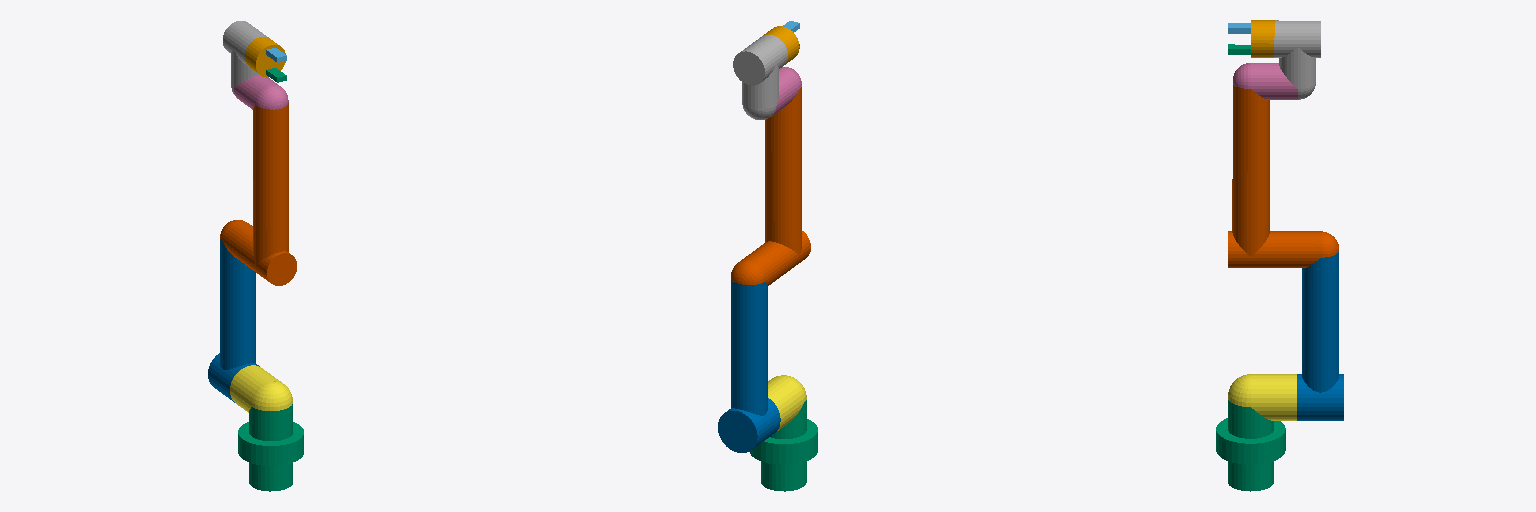
robot.urdf — cobot:
<?xml version="1.0" ?>
<!-- =================================================================================== -->
<!-- |    This document was autogenerated by xacro from src/cobot/urdf/cobot.xacro     | -->
<!-- |    EDITING THIS FILE BY HAND IS NOT RECOMMENDED                                 | -->
<!-- =================================================================================== -->
<robot name="cobot">
   
  <!-- ................................ BASE LINK .................................. -->
  <link name="base_link"/>

  <link name="base_footprint"/>

  <joint name="base_joint" type="fixed">
    <parent link="base_link"/>
    <child link="base_footprint"/>
    <origin rpy="0 0 0" xyz="0.0 0.0 -0.26"/>
  </joint>

  <link name="arm_base">
    <collision>
      <origin rpy="0 0 0" xyz="0 0 0"/>
      <geometry>
        <cylinder length="0.15" radius="0.15"/>
      </geometry>
    </collision>
    <visual>
      <origin rpy="0 0 0" xyz="0 0 0"/>
      <geometry>
        <cylinder length="0.1" radius="0.15"/>
      </geometry>
    </visual>
    <visual>
      <origin rpy="0 0 0" xyz="0 0 0"/>
      <geometry>
        <cylinder length="0.4" radius="0.1"/>
      </geometry>
    </visual>
    <inertial>
      <origin rpy="0 0 0" xyz="0 0 0"/>
      <mass value="5.0"/>
      <inertia ixx="0.000170625" ixy="0" ixz="0" iyy="0.000170625" iyz="0" izz="0.00028125"/>
    </inertial>
  </link>
  <joint name="arm_base_joint" type="fixed">
    <parent link="base_link"/>
    <child link="arm_base"/>
    <origin rpy="0 0 0" xyz="0.1 0 0.2"/>
  </joint>
  
  <link name="arm_link1">
    <collision>
      <origin rpy="0 0 0" xyz="0 0 0"/>
      <geometry>
        <cylinder length="0.15" radius="0.15"/>
      </geometry>
    </collision>
    <visual>
      <origin rpy="0 0 0" xyz="0 0 0"/>
      <geometry>
        <sphere radius="0.1"/>
      </geometry>
    </visual>
    <visual>
      <origin rpy="1.57 0 0" xyz="0 0.1 0"/>
      <geometry>
        <cylinder length="0.2" radius="0.1"/>
      </geometry>
    </visual>
    <inertial>
      <origin rpy="0 0 0" xyz="0 0 0"/>
      <mass value="2.0"/>
      <inertia ixx="0.000170625" ixy="0" ixz="0" iyy="0.000170625" iyz="0" izz="0.00028125"/>
    </inertial>
  </link>
  <joint name="arm_joint1" type="revolute">
    <parent link="arm_base"/>
    <child link="arm_link1"/>
    <origin rpy="0 0 0" xyz="0.0 0 0.2"/>
    <axis xyz="0 0 1"/>
    <limit effort="411" lower="-3.14" upper="3.14" velocity="1.57"/>
    <dynamics damping="60.0" friction="4.0"/>
  </joint>
  
  <link name="arm_link2">
    <collision>
      <origin rpy="0 0 0" xyz="0 0 0"/>
      <geometry>
        <cylinder length="0.15" radius="0.15"/>
      </geometry>
    </collision>
    <visual>
      <origin rpy="0 0 0" xyz="0 0 0"/>
      <geometry>
        <cylinder length="0.2" radius="0.1"/>
      </geometry>
    </visual>
    <visual>
      <origin rpy="1.57 0 0" xyz="0 0.35 0"/>
      <geometry>
        <cylinder length="0.7" radius="0.08"/>
      </geometry>
    </visual>
    <inertial>
      <origin rpy="0 0 0" xyz="0 0 0"/>
      <mass value="1.0"/>
      <inertia ixx="0.000170625" ixy="0" ixz="0" iyy="0.000170625" iyz="0" izz="0.00028125"/>
    </inertial>
  </link>
  <joint name="arm_joint2" type="revolute">
    <parent link="arm_link1"/>
    <child link="arm_link2"/>
    <origin rpy="1.57 0 0" xyz="0.0 0.3 0.0"/>
    <axis xyz="0 0 1"/>
    <limit effort="411" lower="-1.5" upper="1.5" velocity="1.57"/>
    <dynamics damping="60.0" friction="4.0"/>
  </joint>
  
  <link name="arm_link3">
    <collision>
      <origin rpy="0 0 0" xyz="0 0 0"/>
      <geometry>
        <cylinder length="0.15" radius="0.15"/>
      </geometry>
    </collision>
    <visual>
      <origin rpy="0 0 0" xyz="0 0 0"/>
      <geometry>
        <sphere radius="0.08"/>
      </geometry>
    </visual>
    <visual>
      <origin rpy="0 0 0" xyz="0.0 0 0.2"/>
      <geometry>
        <cylinder length="0.4" radius="0.08"/>
      </geometry>
    </visual>
    <visual>
      <origin rpy="1.57 0 0" xyz="0.0 0.4 0.3"/>
      <geometry>
        <cylinder length="0.8" radius="0.08"/>
      </geometry>
    </visual>
    <inertial>
      <origin rpy="0 0 0" xyz="0 0 0"/>
      <mass value="1.0"/>
      <inertia ixx="0.000170625" ixy="0" ixz="0" iyy="0.000170625" iyz="0" izz="0.00028125"/>
    </inertial>
  </link>
  <joint name="arm_joint3" type="revolute">
    <parent link="arm_link2"/>
    <child link="arm_link3"/>
    <origin rpy="0 0 0" xyz="0.0 0.7 0"/>
    <axis xyz="0 0 1"/>
    <limit effort="411" lower="-2.4" upper="2.4" velocity="1.57"/>
    <dynamics damping="60.0" friction="4.0"/>
  </joint>
  
  <link name="arm_link4">
    <collision>
      <origin rpy="0 0 0" xyz="0 0 0"/>
      <geometry>
        <cylinder length="0.15" radius="0.15"/>
      </geometry>
    </collision>
    <visual>
      <origin rpy="0 0 0" xyz="0 0 0"/>
      <geometry>
        <sphere radius="0.08"/>
      </geometry>
    </visual>
    <visual>
      <origin rpy="0 0 0" xyz="0.0 0 -0.1"/>
      <geometry>
        <cylinder length="0.2" radius="0.08"/>
      </geometry>
    </visual>
    <inertial>
      <origin rpy="0 0 0" xyz="0 0 0"/>
      <mass value="0.5"/>
      <inertia ixx="0.000170625" ixy="0" ixz="0" iyy="0.000170625" iyz="0" izz="0.00028125"/>
    </inertial>
  </link>
  <joint name="arm_joint4" type="revolute">
    <parent link="arm_link3"/>
    <child link="arm_link4"/>
    <origin rpy="0 0 0" xyz="0.0 0.8 0.3"/>
    <axis xyz="0 0 1"/>
    <limit effort="411" lower="-3.14" upper="3.14" velocity="1.57"/>
    <dynamics damping="60.0" friction="4.0"/>
  </joint>
  
  <link name="arm_link5">
    <collision>
      <origin rpy="0 0 0" xyz="0 0 0"/>
      <geometry>
        <cylinder length="0.15" radius="0.15"/>
      </geometry>
    </collision>
    <visual>
      <origin rpy="0 0 0" xyz="0 0 0"/>
      <geometry>
        <sphere radius="0.08"/>
      </geometry>
    </visual>
    <visual>
      <origin rpy="1.57 0 0" xyz="0.0 0.1 0.0"/>
      <geometry>
        <cylinder length="0.2" radius="0.08"/>
      </geometry>
    </visual>
    <visual>
      <origin rpy="0 0 0" xyz="0.0 0.2 0.0"/>
      <geometry>
        <cylinder length="0.2" radius="0.08"/>
      </geometry>
    </visual>
    <inertial>
      <origin rpy="0 0 0" xyz="0 0 0"/>
      <mass value="0.5"/>
      <inertia ixx="0.000170625" ixy="0" ixz="0" iyy="0.000170625" iyz="0" izz="0.00028125"/>
    </inertial>
  </link>
  <joint name="arm_joint5" type="revolute">
    <parent link="arm_link4"/>
    <child link="arm_link5"/>
    <origin rpy="0 0 0" xyz="0.0 0.0 -0.2"/>
    <axis xyz="0 1 0"/>
    <limit effort="411" lower="-3.14" upper="3.144" velocity="1.57"/>
    <dynamics damping="60.0" friction="4.0"/>
  </joint>

  <link name="arm_link6">
    <collision>
      <origin rpy="0 0 0" xyz="0 0 0"/>
      <geometry>
        <cylinder length="0.15" radius="0.15"/>
      </geometry>
    </collision>
    <visual>
      <origin rpy="0 0 0" xyz="0.0 0.0 0.0"/>
      <geometry>
        <cylinder length="0.1" radius="0.08"/>
      </geometry>
    </visual>
    <inertial>
      <origin rpy="0 0 0" xyz="0 0 0"/>
      <mass value="0.5"/>
      <inertia ixx="0.000170625" ixy="0" ixz="0" iyy="0.000170625" iyz="0" izz="0.00028125"/>
    </inertial>
  </link>
  <joint name="arm_joint6" type="revolute">
    <parent link="arm_link5"/>
    <child link="arm_link6"/>
    <origin rpy="0 0 0" xyz="0.0 0.2 0.15"/>
    <axis xyz="0 0 1"/>
    <limit effort="411" lower="0" upper="3.14" velocity="1.57"/>
    <dynamics damping="60.0" friction="4.0"/>
  </joint>
  <link name="right_gripper_finger_link">
    <collision>
      <origin rpy="0 0 0" xyz="0 0 0"/>
      <geometry>
        <box size="0.01 0.01 0.01"/>
      </geometry>
    </collision>
    <visual>
      <origin rpy="0 0 0" xyz="0.0 0.0 0.0"/>
      <geometry>
        <box size="0.05 0.025 0.1"/>
      </geometry>
    </visual>
    <inertial>
      <mass value="0.05"/>
      <inertia ixx="8.333333333333334e-07" ixy="0" ixz="0" iyy="8.333333333333334e-07" iyz="0" izz="8.333333333333334e-07"/>
    </inertial>
  </link>
  <joint name="right_gripper_finger_joint" type="prismatic">
    <parent link="arm_link6"/>
    <child link="right_gripper_finger_link"/>
    <origin rpy="0 0 0" xyz="0.0 0.05 0.1"/>
    <axis xyz="0 1 0"/>
    <limit effort="411" lower="-0.03" upper="0.03" velocity="1.57"/>
    <dynamics damping="60.0" friction="4.0"/>
  </joint>

  <link name="left_gripper_finger_link">
    <collision>
      <origin rpy="0 0 0" xyz="0 0 0"/>
      <geometry>
        <box size="0.01 0.01 0.01"/>
      </geometry>
    </collision>
    <visual>
      <origin rpy="0 0 0" xyz="0.0 0.0 0.0"/>
      <geometry>
        <box size="0.05 0.025 0.1"/>
      </geometry>
    </visual>
    <inertial>
      <mass value="0.05"/>
      <inertia ixx="8.333333333333334e-07" ixy="0" ixz="0" iyy="8.333333333333334e-07" iyz="0" izz="8.333333333333334e-07"/>
    </inertial>
  </link>
  <joint name="left_gripper_finger_joint" type="prismatic">
    <parent link="arm_link6"/>
    <child link="left_gripper_finger_link"/>
    <origin rpy="0 0 0" xyz="0.0 -0.05 0.1"/>
    <axis xyz="0 1 0"/>
    <limit effort="411" lower="-0.03" upper="0.03" velocity="1.57"/>
    <dynamics damping="60.0" friction="4.0"/>
  </joint>
  
  <ros2_control name="GazeboSystem" type="system">
    <hardware>
      <plugin>gazebo_ros2_control/GazeboSystem</plugin>
    </hardware>
    <joint name="arm_joint1">
      <command_interface name="position">
        <param name="min">-3.14</param>
        <param name="max">3.14</param>
      </command_interface>
      <command_interface name="velocity">
        <param name="min">-3.15</param>
        <param name="max">3.15</param>
      </command_interface>
      <state_interface name="position"/>
      <state_interface name="velocity"/>
      <state_interface name="effort"/>
      <param name="initial_position">0.0</param>
    </joint>
    <joint name="arm_joint2">
      <command_interface name="position">
        <param name="min">-3.14</param>
        <param name="max">3.14</param>
      </command_interface>
      <command_interface name="velocity">
        <param name="min">-3.15</param>
        <param name="max">3.15</param>
      </command_interface>
      <state_interface name="position"/>
      <state_interface name="velocity"/>
      <state_interface name="effort"/>
      <param name="initial_position">-1.57</param>
    </joint>
    <joint name="arm_joint3">
      <command_interface name="position">
        <param name="min">-3.14</param>
        <param name="max">3.14</param>
      </command_interface>
      <command_interface name="velocity">
        <param name="min">-3.15</param>
        <param name="max">3.15</param>
      </command_interface>
      <state_interface name="position"/>
      <state_interface name="velocity"/>
      <state_interface name="effort"/>
      <param name="initial_position">0.0</param>
    </joint>
    <joint name="arm_joint4">
      <command_interface name="position">
        <param name="min">-3.14</param>
        <param name="max">3.14</param>
      </command_interface>
      <command_interface name="velocity">
        <param name="min">-3.15</param>
        <param name="max">3.15</param>
      </command_interface>
      <state_interface name="position"/>
      <state_interface name="velocity"/>
      <state_interface name="effort"/>
      <param name="initial_position">0.0</param>
    </joint>
    <joint name="arm_joint5">
      <command_interface name="position">
        <param name="min">-3.14</param>
        <param name="max">3.14</param>
      </command_interface>
      <command_interface name="velocity">
        <param name="min">-3.15</param>
        <param name="max">3.15</param>
      </command_interface>
      <state_interface name="position"/>
      <state_interface name="velocity"/>
      <state_interface name="effort"/>
      <param name="initial_position">0.0</param>
    </joint>
    <joint name="arm_joint6">
      <command_interface name="position">
        <param name="min">-3.14</param>
        <param name="max">3.14</param>
      </command_interface>
      <command_interface name="velocity">
        <param name="min">-3.15</param>
        <param name="max">3.15</param>
      </command_interface>
      <state_interface name="position"/>
      <state_interface name="velocity"/>
      <state_interface name="effort"/>
      <param name="initial_position">0.0</param>
    </joint>
    <joint name="right_gripper_finger_joint">
      <command_interface name="position">
        <param name="min">-3.14</param>
        <param name="max">3.14</param>
      </command_interface>
      <command_interface name="velocity">
        <param name="min">-3.2</param>
        <param name="max">3.2</param>
      </command_interface>
      <state_interface name="position"/>
      <state_interface name="velocity"/>
      <state_interface name="effort"/>
      <param name="initial_position">0.0</param>
    </joint>
    <joint name="left_gripper_finger_joint">
      <command_interface name="position">
        <param name="min">-3.14</param>
        <param name="max">3.14</param>
      </command_interface>
      <command_interface name="velocity">
        <param name="min">-3.2</param>
        <param name="max">3.2</param>
      </command_interface>
      <state_interface name="position"/>
      <state_interface name="velocity"/>
      <state_interface name="effort"/>
      <param name="initial_position">0.0</param>
    </joint>
  </ros2_control>
</robot>

--- Render facts (derived) ---
3 views of the same robot in one strip: view 1: azimuth 30°, elevation 25°; view 2: azimuth 150°, elevation 25°; view 3: azimuth 270°, elevation 25° (orthographic).
Robot: cobot — 11 links, 10 joints (6 revolute, 2 prismatic, 2 fixed); root link base_link; default pose: all joints at 0.
Visible links, largest first — view 1: arm_link3, arm_link2, arm_base, arm_link1, arm_link5, arm_link4, arm_link6; view 2: arm_link3, arm_link2, arm_base, arm_link5, arm_link1, arm_link4, arm_link6; view 3: arm_link3, arm_link2, arm_base, arm_link5, arm_link1, arm_link4, arm_link6.
Boxes of the visible links, x1,y1,x2,y2 form: arm_link3: [220, 103, 296, 285]; arm_link2: [208, 239, 259, 402]; arm_base: [238, 404, 303, 491]; arm_link1: [230, 365, 292, 412]; arm_link5: [223, 21, 268, 97]; arm_link4: [234, 75, 288, 109]; arm_link6: [245, 37, 285, 77]; arm_link3: [731, 87, 810, 285]; arm_link2: [718, 280, 780, 452]; arm_base: [750, 400, 817, 491]; arm_link5: [733, 35, 787, 119]; arm_link1: [768, 375, 806, 430]; arm_link4: [774, 67, 801, 114]; arm_link6: [763, 26, 799, 64]; arm_link3: [1228, 85, 1338, 267]; arm_link2: [1297, 252, 1343, 420]; arm_base: [1216, 400, 1285, 491]; arm_link5: [1274, 20, 1320, 99]; arm_link1: [1228, 374, 1296, 420]; arm_link4: [1233, 63, 1297, 99]; arm_link6: [1251, 20, 1274, 57].
Size in the robot's own frame: 0.3 by 0.5501 by 2.18 metres.
Geometry: primitives only (box / cylinder / sphere), no mesh files.